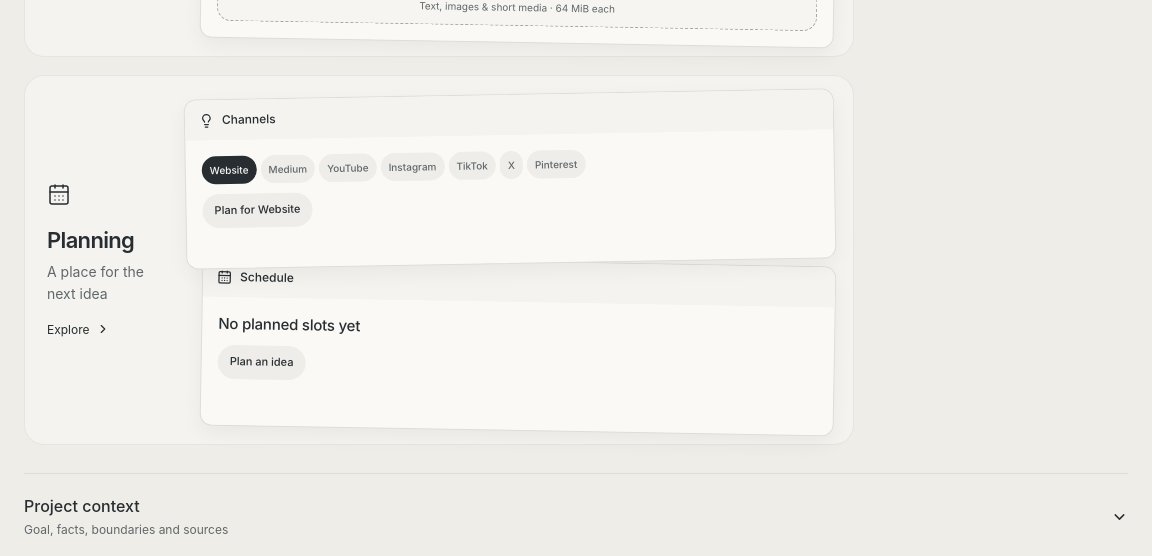
Review Desk › shows verified foundation references without introducing another approval queue
(page scrolled)
Click the text "Project context" at (82, 506), box [24,496,140,516]
(page scrolled)
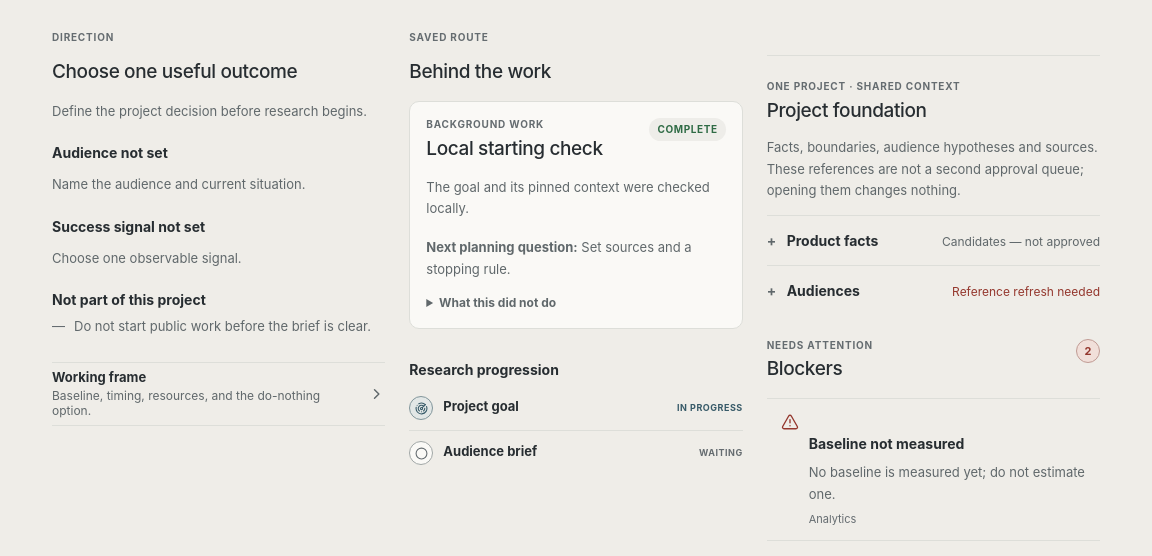
Click the text "Product facts" at (823, 240), box [767,232,878,249]
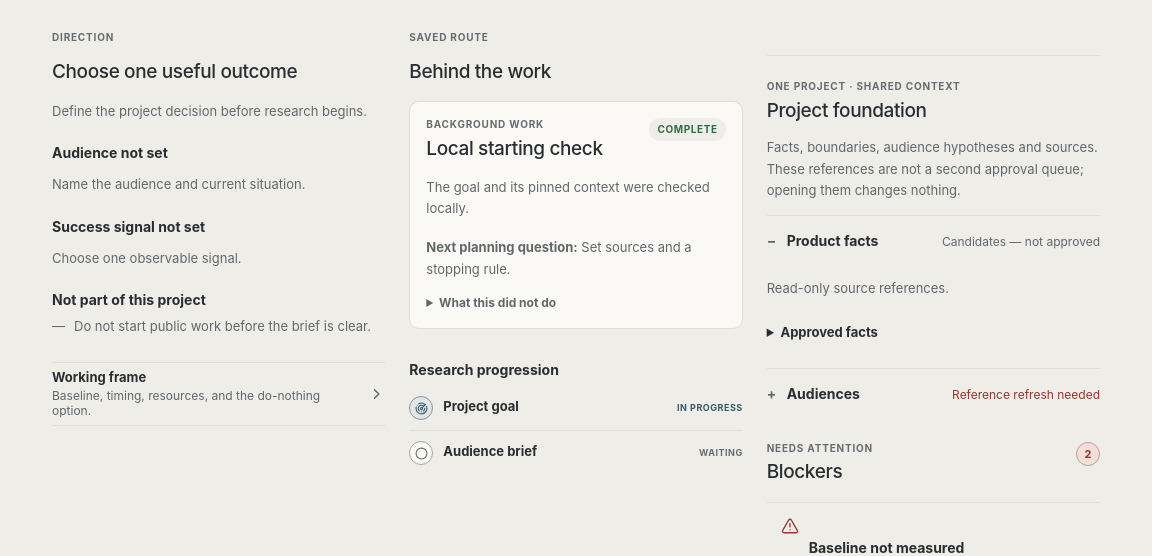
Click the heading "Approved facts" at (829, 332), box [780,324,878,340]
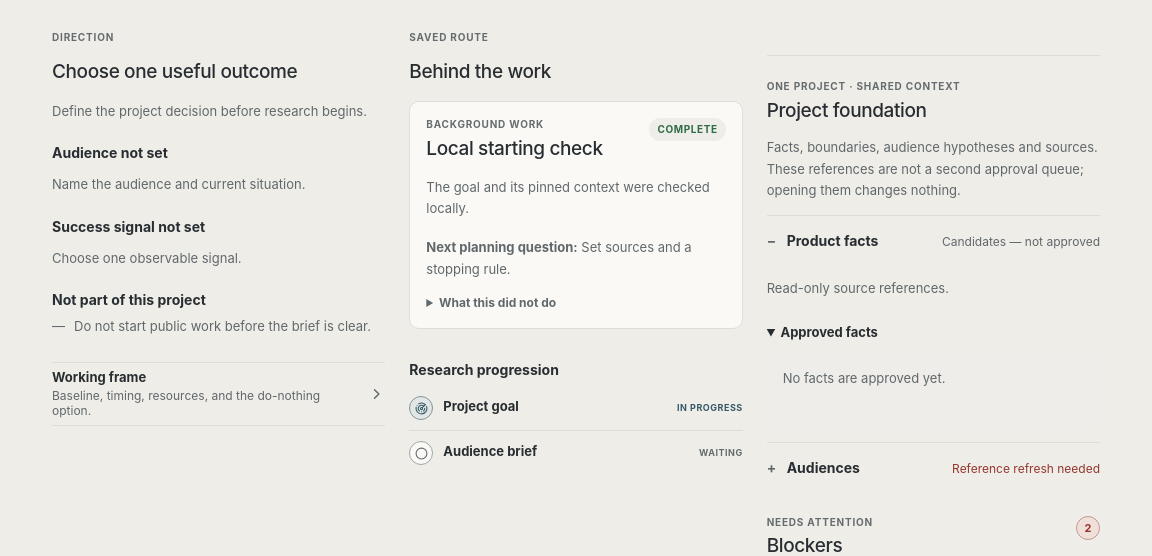
Expected: the text "Reference refresh needed" is shown, [952,461,1100,476]
Expected: the text "No facts are approved yet." is shown, [783,370,946,386]
